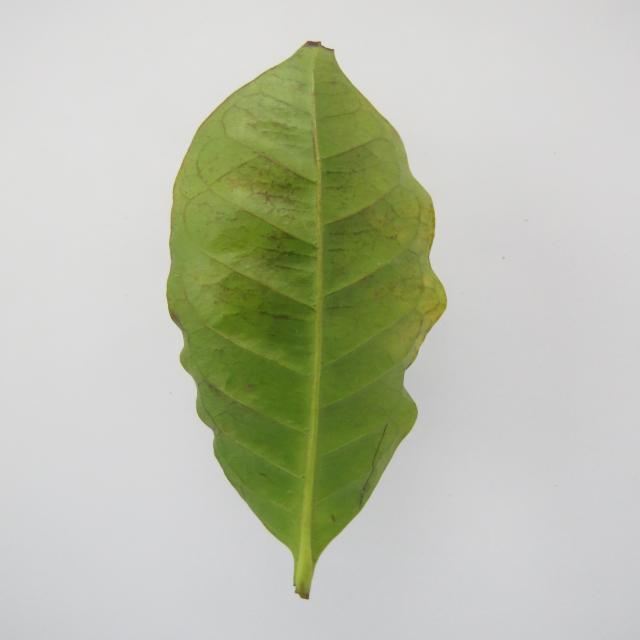DeficienciaNutricional-Calcio: (167, 42, 445, 598)
